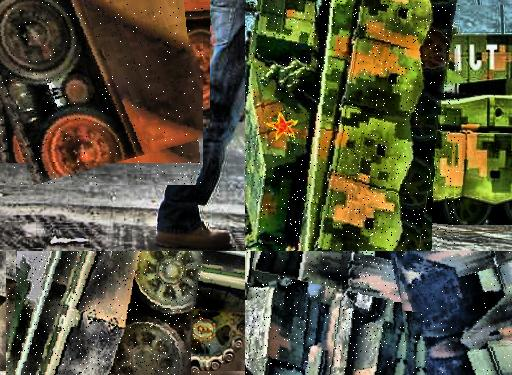tanks: (246, 1, 458, 252), (1, 1, 203, 186), (246, 252, 495, 375), (7, 252, 205, 375), (398, 252, 512, 369)
